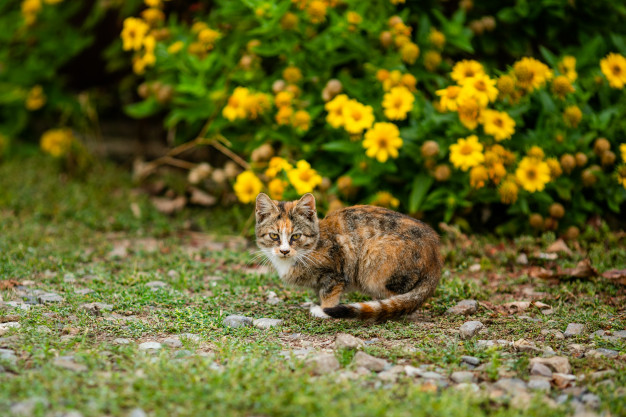cat: (241, 176, 451, 319)
